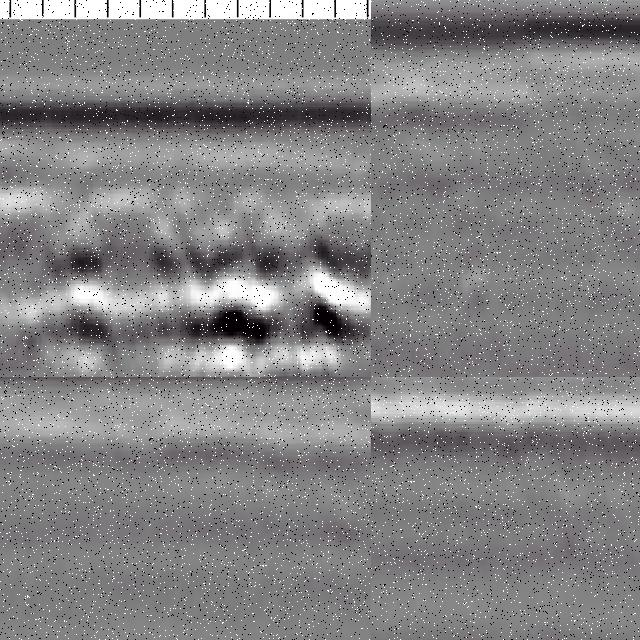loose: (44, 186, 366, 378)
